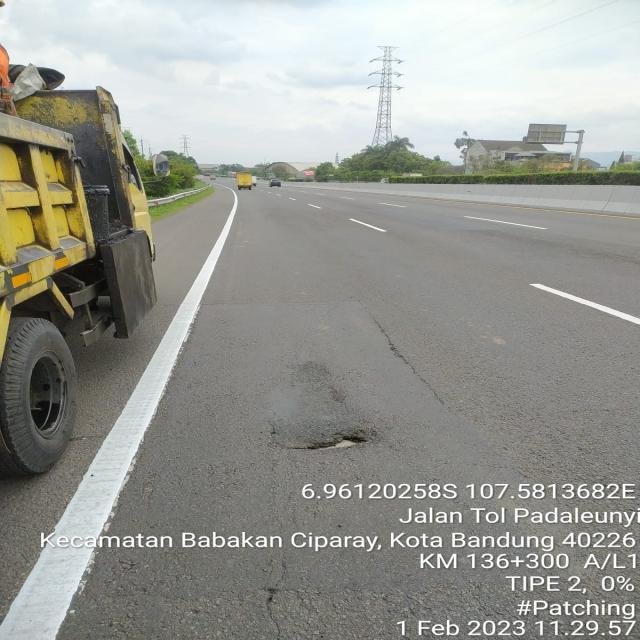Buraco: (304, 428, 376, 454)
